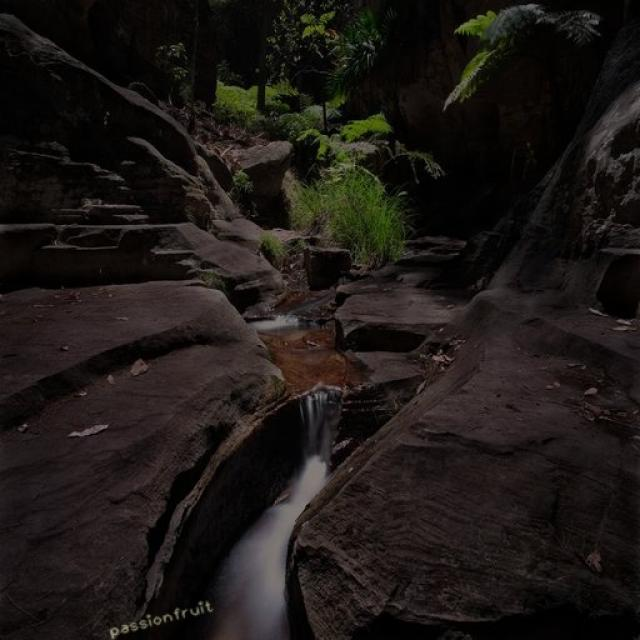watermark: (105, 598, 213, 638)
